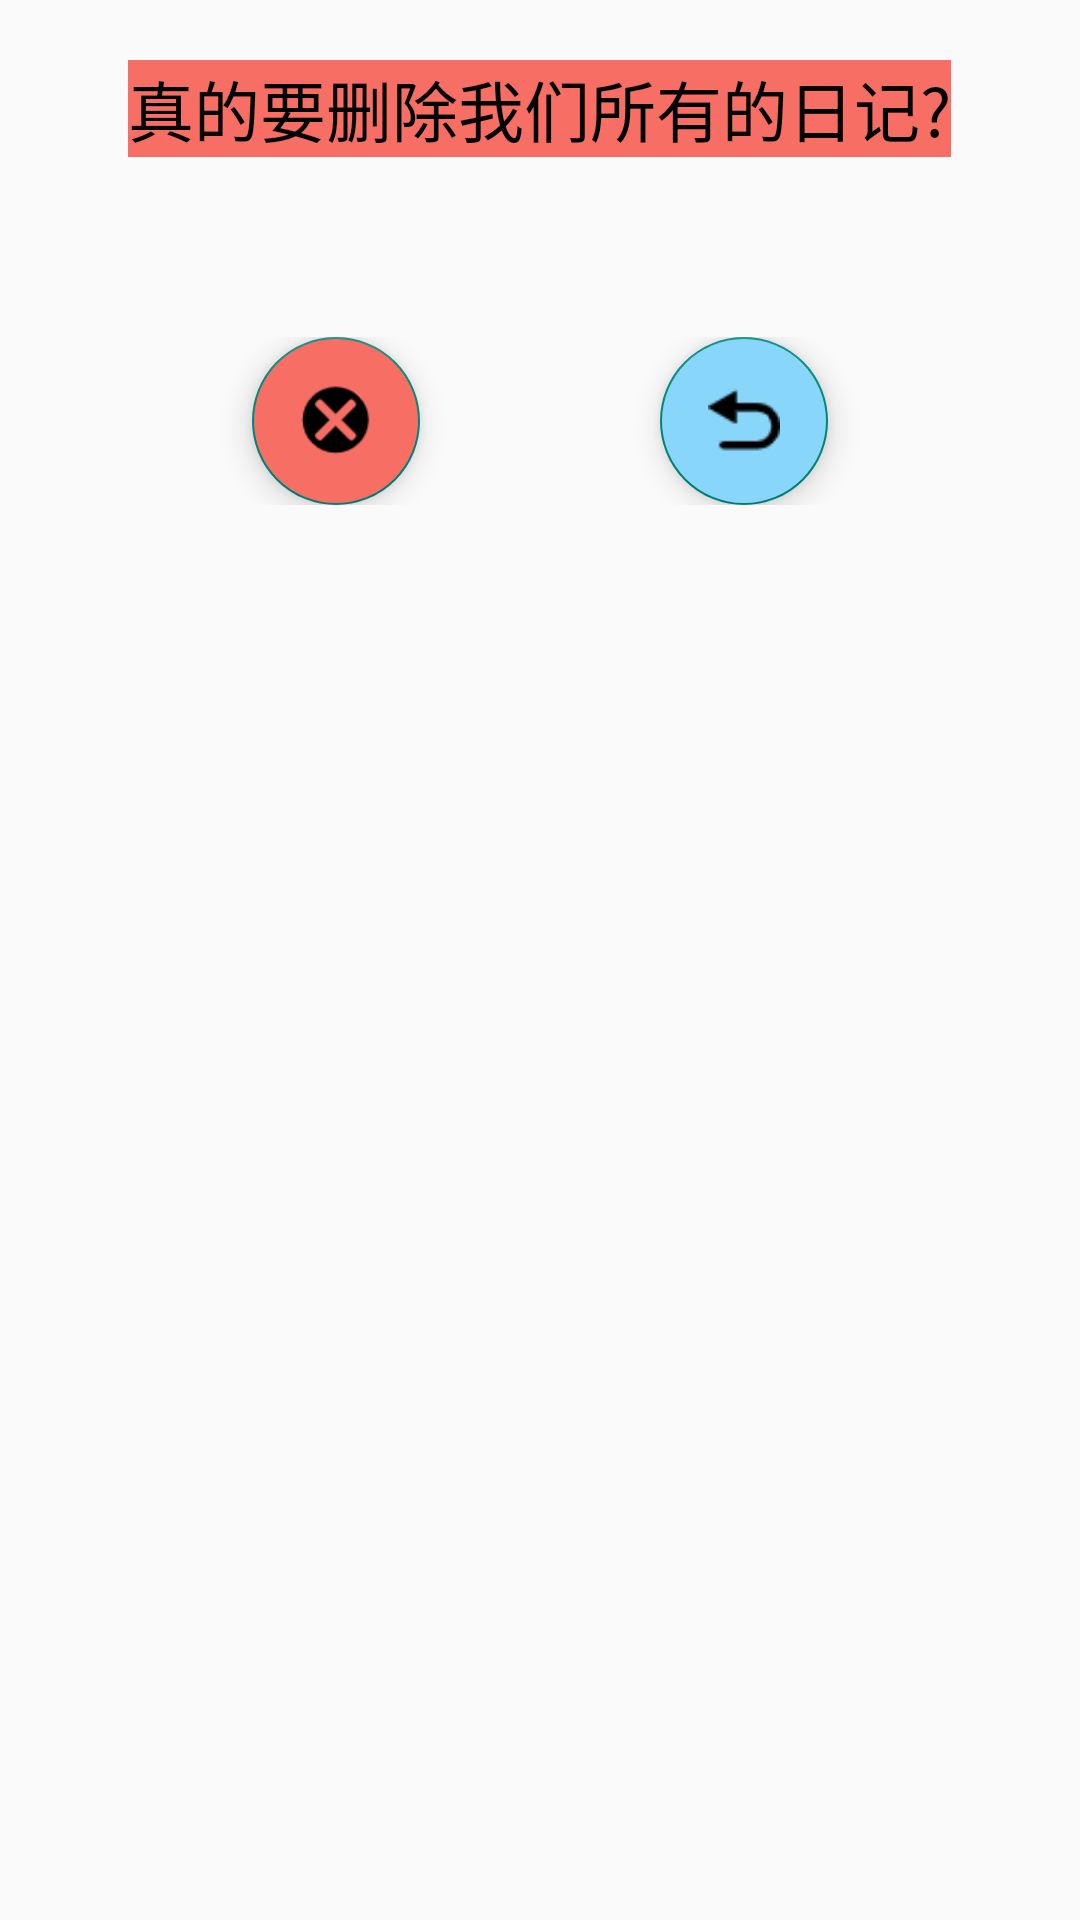

Where icons sit on this 1080*1920 app screen, as [left=x1, top=y1, right=x2, bottom=y2]:
back: [left=660, top=337, right=828, bottom=505]
delete nall: [left=252, top=337, right=420, bottom=505]
